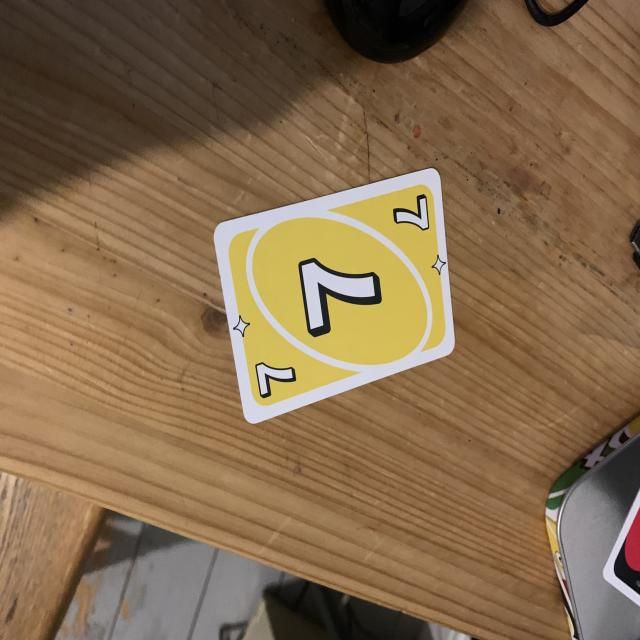lyellow-7: (385, 188, 432, 240)
